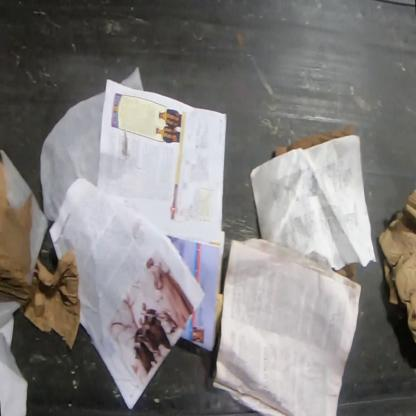cardboard: (18, 248, 82, 353), (377, 188, 415, 346), (0, 160, 33, 306), (276, 118, 360, 156), (330, 260, 356, 283)
